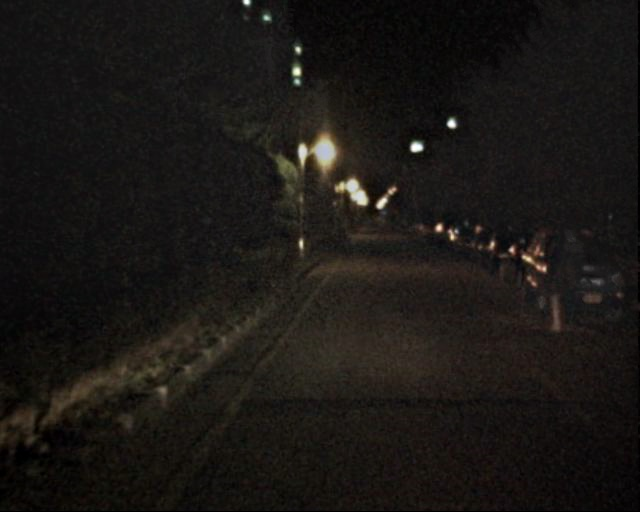person: (547, 226, 588, 327), (536, 241, 575, 335)
